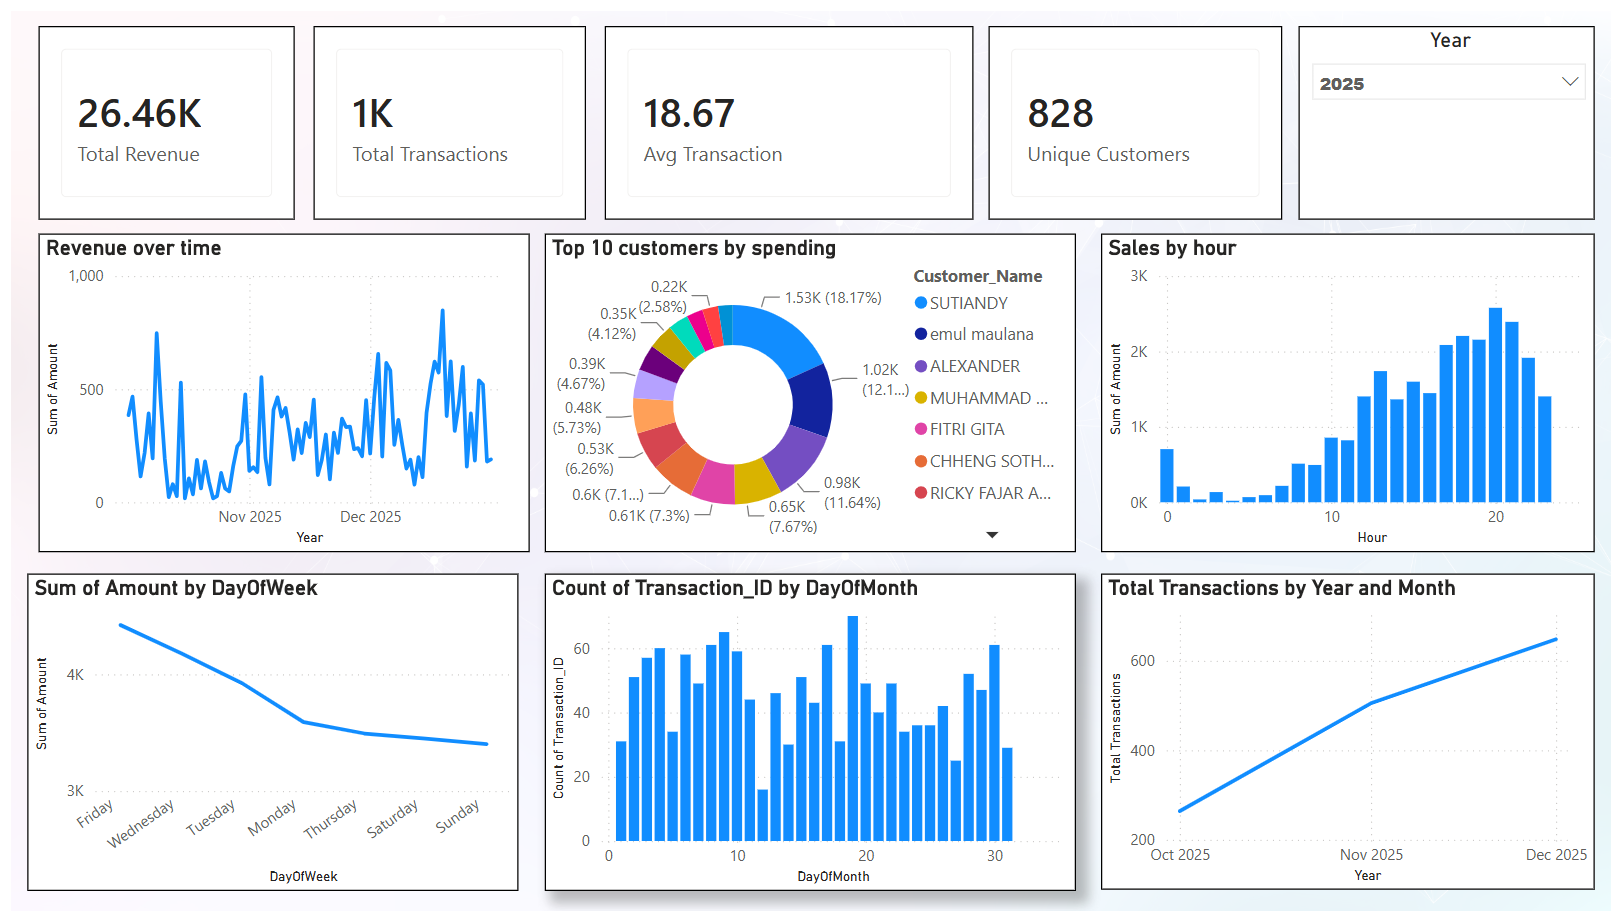

The dashboard page shown, as its layout file describes it:
{"tool":"powerbi","page":{"name":"Page 1","canvas":[1280,720],"ordinal":0},"visuals":[{"type":"cardVisual","title":"Total Revenue","fields":{"Data":["aba_transactions.Total Revenue"]},"box":[21.7,11.7,205,155],"z":0},{"type":"cardVisual","fields":{"Data":["aba_transactions.Avg Transaction"]},"box":[475,11.7,295,155],"z":1000},{"type":"cardVisual","fields":{"Data":["aba_transactions.Unique Customers"]},"box":[781.7,11.7,235,155],"z":2000},{"type":"cardVisual","fields":{"Data":["aba_transactions.Total Transactions"]},"box":[241.7,11.7,218.3,155],"z":3000},{"type":"lineChart","title":"Revenue over time","fields":{"Y":["Sum(aba_transactions.Amount)"],"Category":["aba_transactions.Date.Variation.Date Hierarchy.Year","aba_transactions.Date.Variation.Date Hierarchy.Quarter","aba_transactions.Date.Variation.Date Hierarchy.Month","aba_transactions.Date.Variation.Date Hierarchy.Day"]},"box":[21.7,178.3,393.3,255],"z":4000},{"type":"donutChart","title":"Top 10 customers by spending","fields":{"Category":["aba_transactions.Customer_Name"],"Y":["Sum(aba_transactions.Amount)"]},"box":[426.7,178.3,425,255],"z":5000},{"type":"clusteredColumnChart","title":"Sales by hour","fields":{"Category":["aba_transactions.Hour"],"Y":["Sum(aba_transactions.Amount)"]},"box":[871.7,178.3,395,255],"z":6000},{"type":"lineChart","fields":{"Category":["aba_transactions.DayOfWeek"],"Y":["Sum(aba_transactions.Amount)"]},"box":[13.3,450,392.2,254.4],"z":7000},{"type":"lineStackedColumnComboChart","fields":{"Category":["aba_transactions.DayOfMonth"],"Y":["Count(aba_transactions.Transaction_ID)"]},"box":[427,450,425,254],"z":8000},{"type":"lineChart","fields":{"Y":["aba_transactions.Total Transactions"],"Category":["aba_transactions.Date.Variation.Date Hierarchy.Year","aba_transactions.Date.Variation.Date Hierarchy.Month"]},"box":[871.7,450,395,253.3],"z":9000},{"type":"slicer","title":"Year","fields":{"Values":["aba_transactions.Year"]},"box":[1030,12,236.7,155],"z":10000}]}

Visuals, with their boxes in screenshot pixels (x1, y1, x2, y2), scaled from the page's 1280x720 canvas onto the 1618x921 screenshot:
"Total Revenue" cardVisual: Rect(27, 15, 287, 213)
cardVisual - aba_transactions.Avg Transaction: Rect(600, 15, 973, 213)
cardVisual - aba_transactions.Unique Customers: Rect(988, 15, 1285, 213)
cardVisual - aba_transactions.Total Transactions: Rect(306, 15, 581, 213)
"Revenue over time" lineChart: Rect(27, 228, 525, 554)
"Top 10 customers by spending" donutChart: Rect(539, 228, 1077, 554)
"Sales by hour" clusteredColumnChart: Rect(1102, 228, 1601, 554)
lineChart - aba_transactions.DayOfWeek x Sum(aba_transactions.Amount): Rect(17, 576, 513, 901)
lineStackedColumnComboChart - aba_transactions.DayOfMonth x Count(aba_transactions.Transaction_ID): Rect(540, 576, 1077, 901)
lineChart - aba_transactions.Total Transactions x aba_transactions.Date.Variation.Date Hierarchy.Year: Rect(1102, 576, 1601, 900)
"Year" slicer: Rect(1302, 15, 1601, 214)
